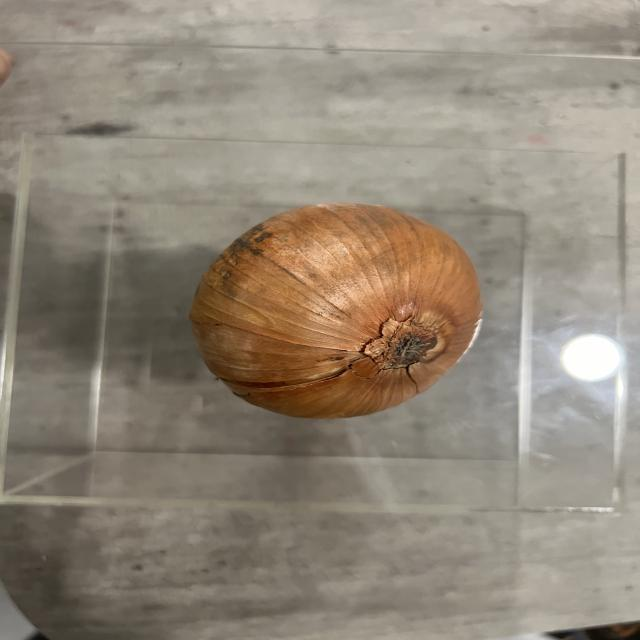onion: (190, 201, 480, 420)
